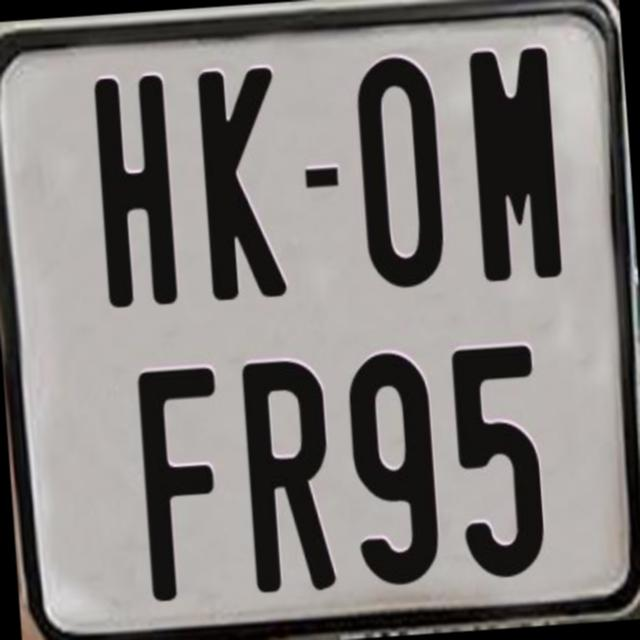0: (351, 54, 446, 297)
5: (447, 344, 549, 581)
9: (345, 348, 448, 594)
F: (134, 366, 229, 611)
H: (93, 70, 185, 312)
K: (197, 63, 292, 305)
M: (467, 46, 560, 281)
R: (239, 358, 339, 598)
